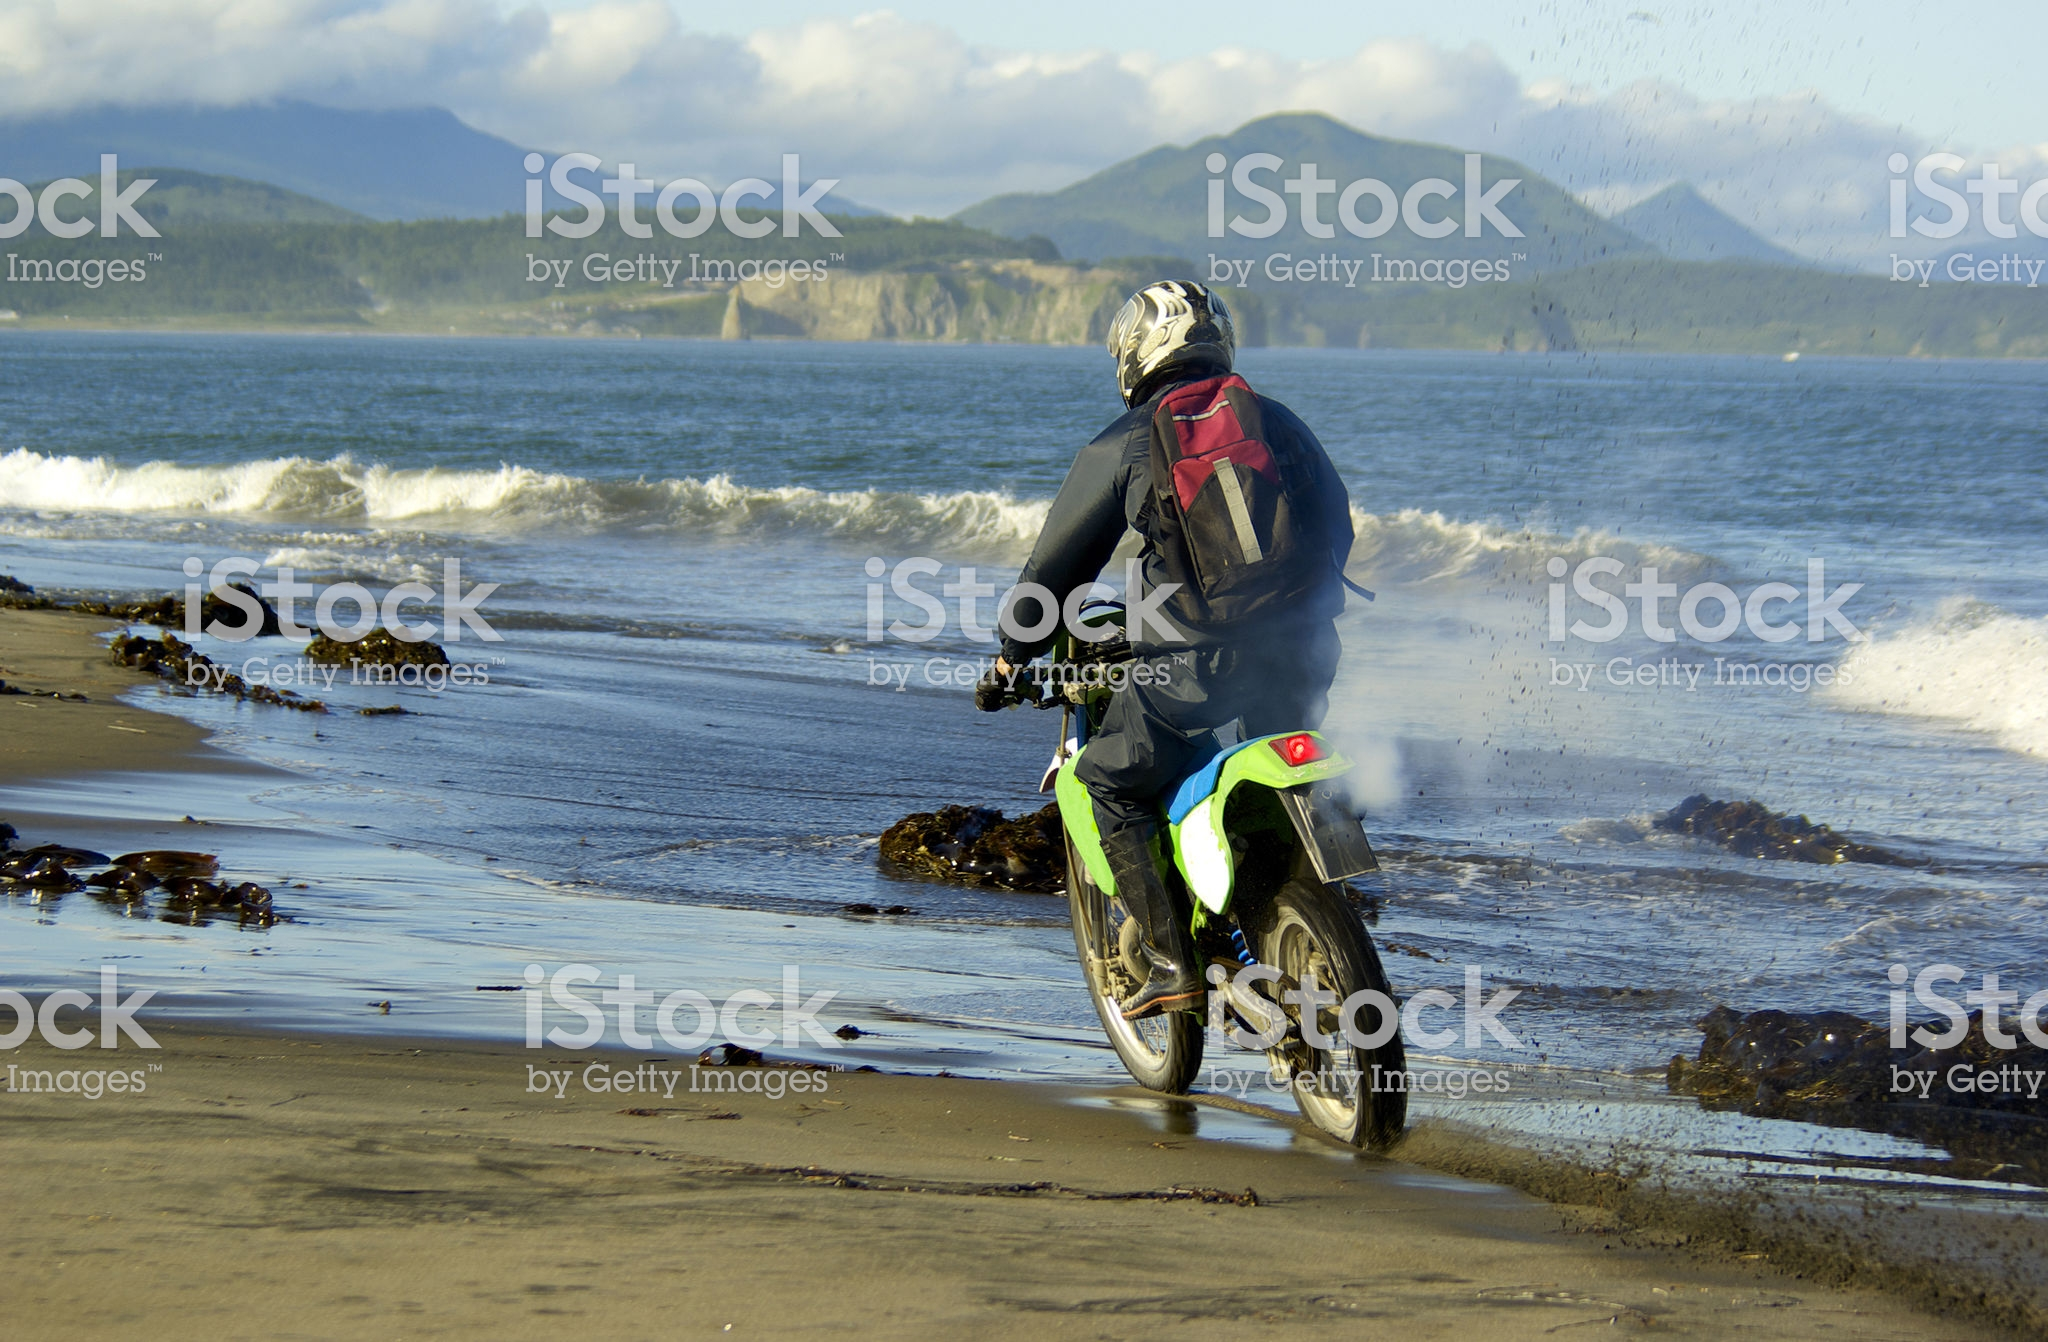helmet: (1102, 258, 1250, 389)
